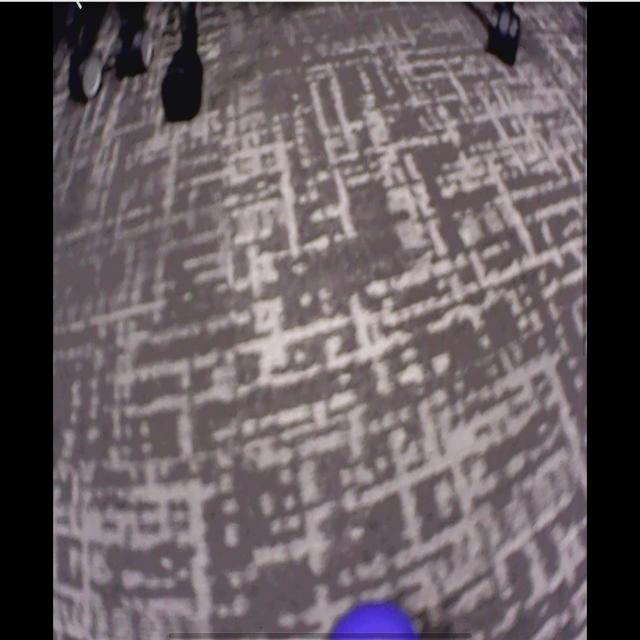ball: (331, 609, 418, 640)
